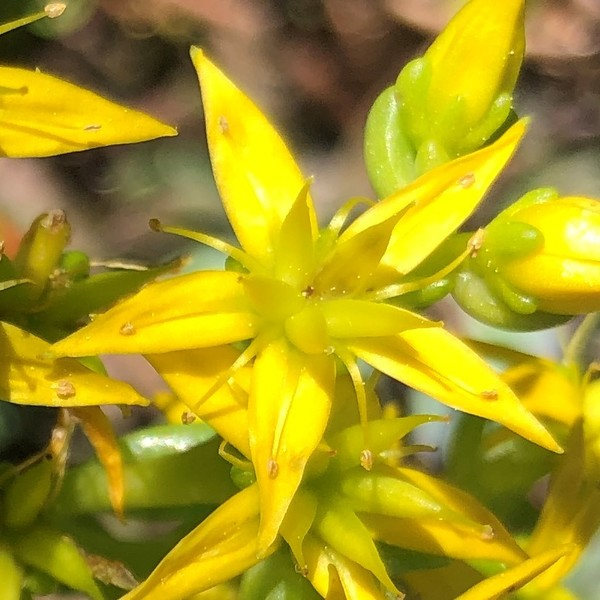obstacle: (94, 50, 576, 568)
